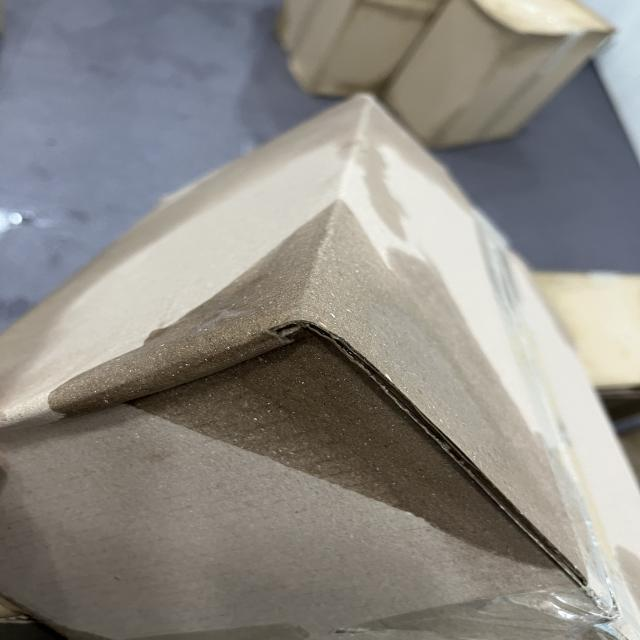wet: (150, 206, 595, 576)
